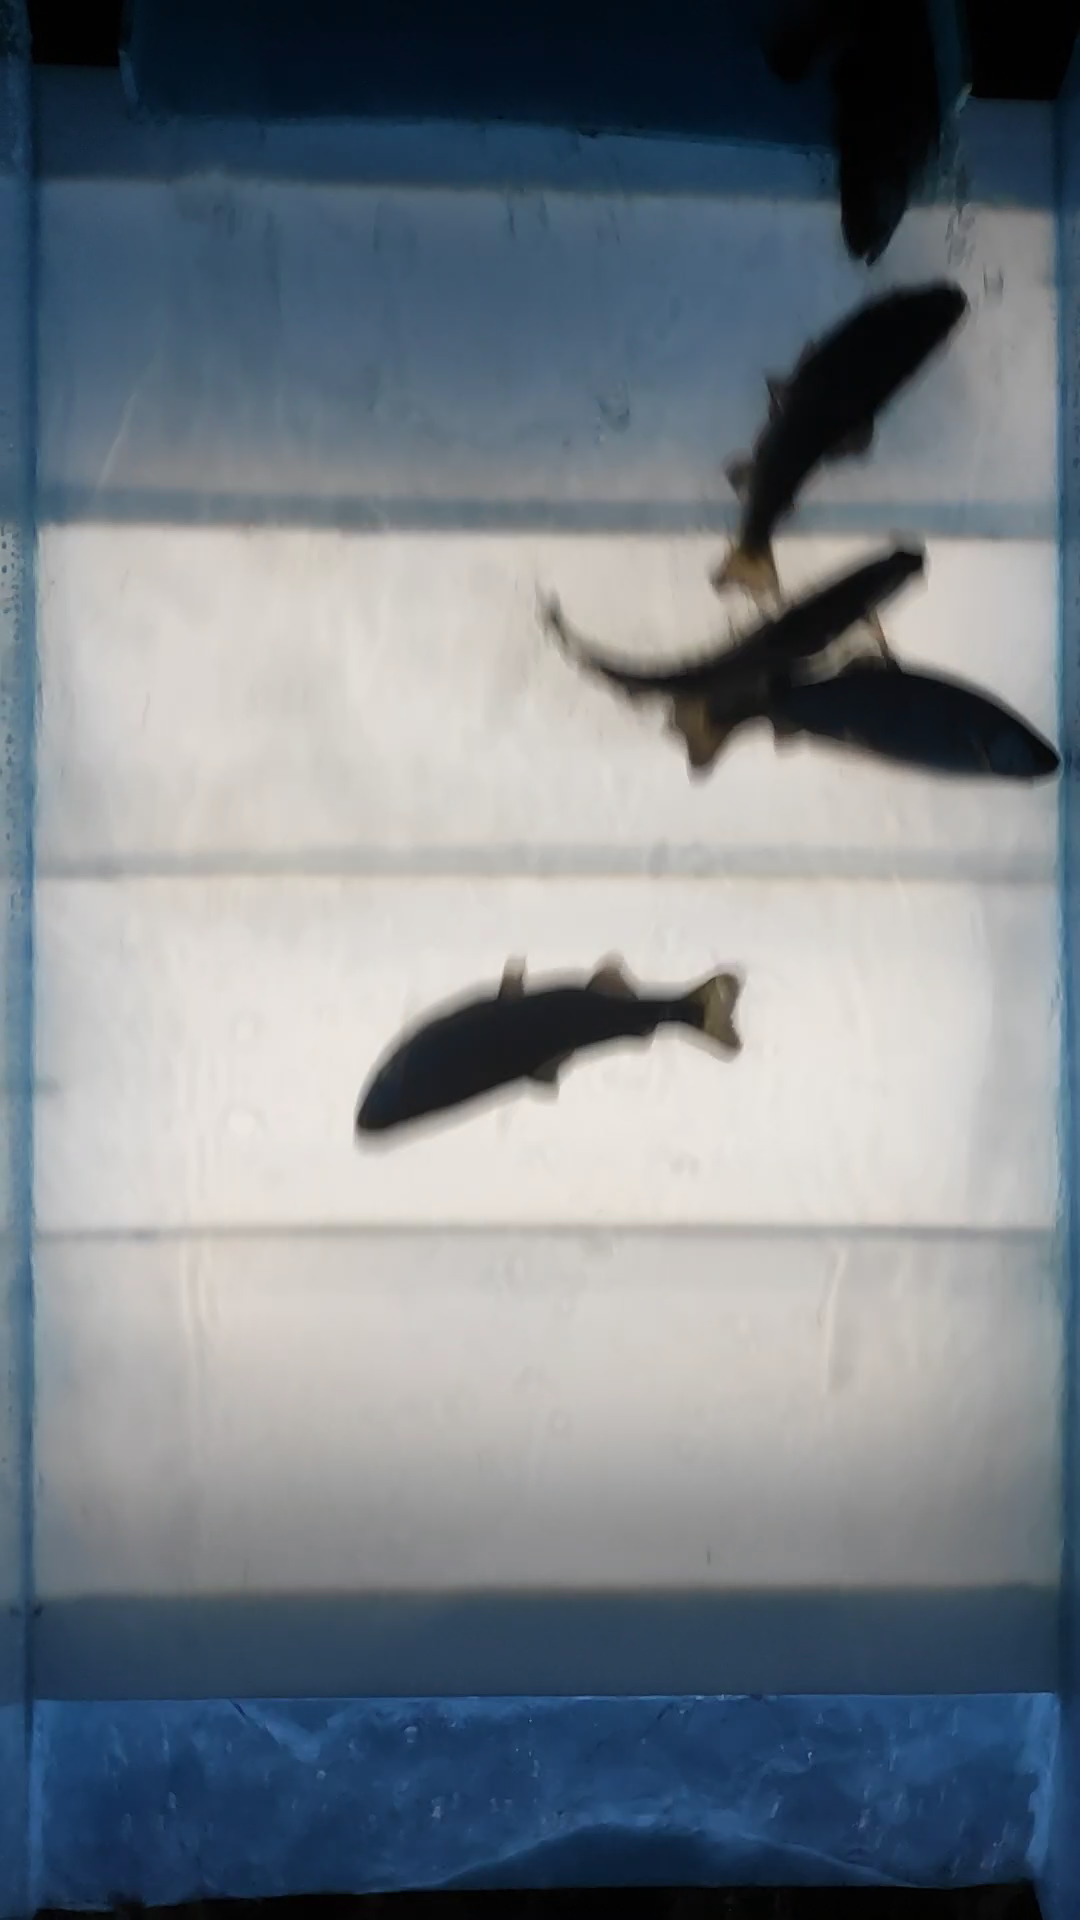fish: (698, 274, 975, 607), (348, 948, 745, 1145), (527, 539, 939, 709), (651, 651, 1058, 793), (824, 1, 936, 258)
